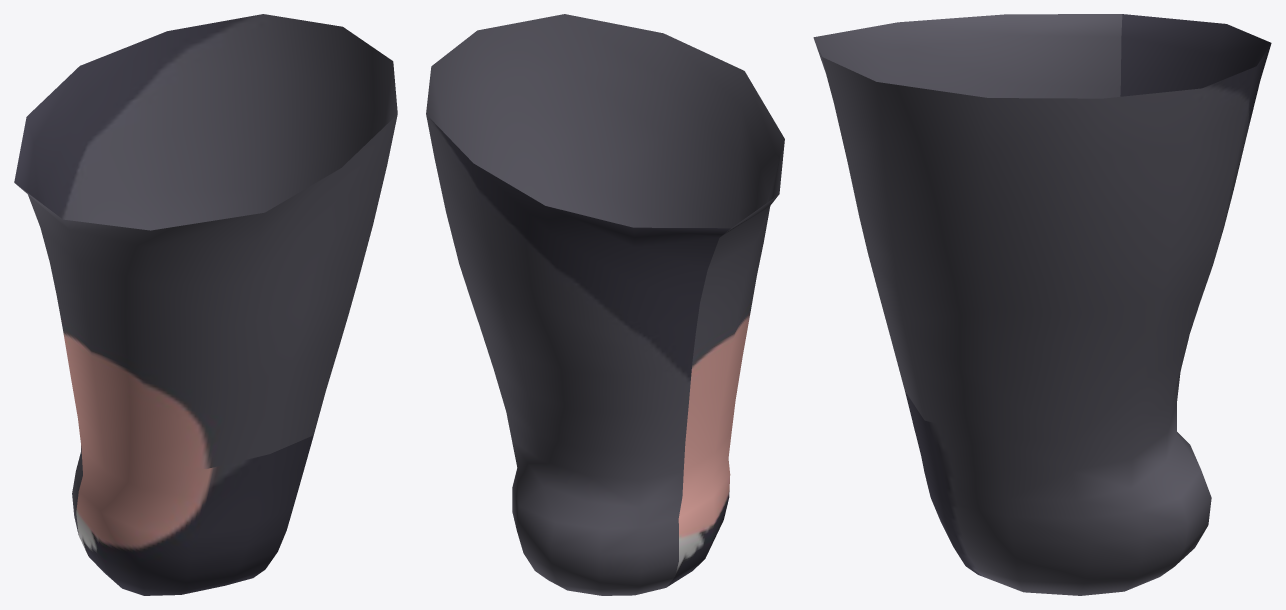
Rendered from leftleg.obj.
3 views of the same model, side by side, from view 1: azimuth 30°, elevation 25°; view 2: azimuth 150°, elevation 25°; view 3: azimuth 270°, elevation 25° (orthographic). The views are drawn at different scales.
Visible parts, largest first — view 1: pamon:obj1; view 2: pamon:obj1; view 3: pamon:obj1.
Boxes of the visible parts, x1,y1,x2,y2 form: pamon:obj1: [14, 14, 397, 595]; pamon:obj1: [426, 14, 784, 595]; pamon:obj1: [813, 14, 1271, 595].
Size of the model in its own units: 1.39 by 2.01 by 1.47.
